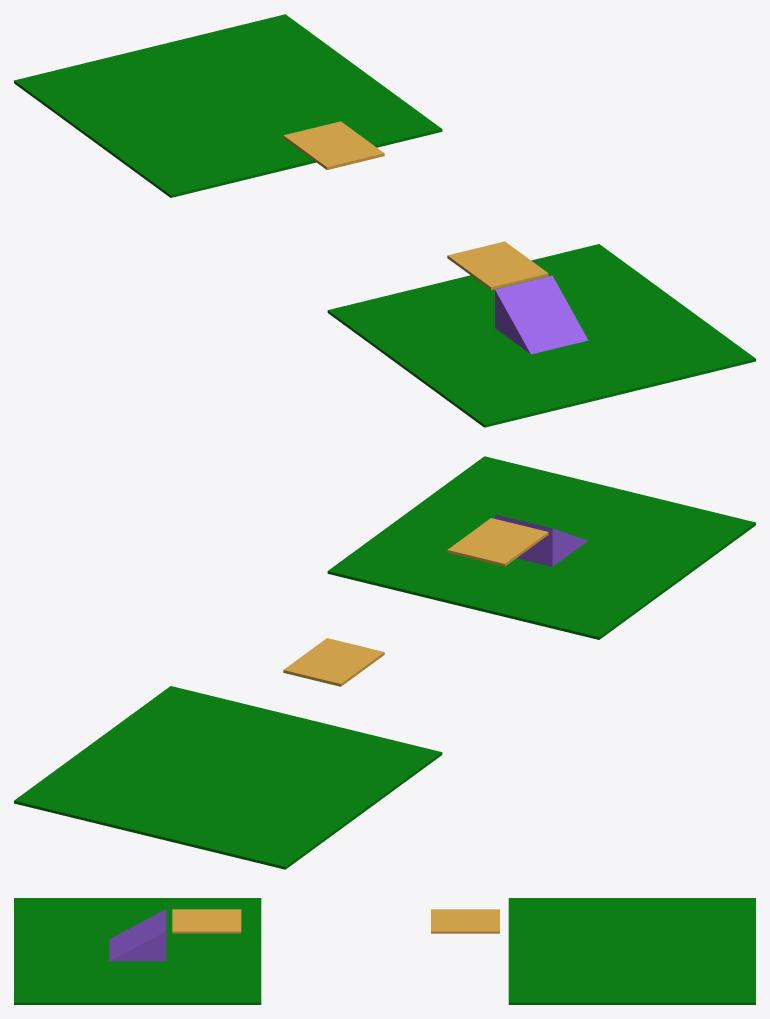
Rendered from goweti.glb.
The picture shows the model from 3 angles, top to bottom: view 1: azimuth 30°, elevation 25°; view 2: azimuth 150°, elevation 25°; view 3: azimuth 270°, elevation 25°; orthographic projection. The views are drawn at different scales.
Parts seen in each view (by area): view 1: BaseCube.001, BaseCube, Ramp, FloatingPlatform, FloatingPlatform.001; view 2: BaseCube.001, BaseCube, FloatingPlatform, FloatingPlatform.001, Ramp; view 3: BaseCube.001, BaseCube, Ramp, FloatingPlatform, FloatingPlatform.001.
Part boxes in pixels (x1,y1,x2,y2): BaseCube.001: (14,14,442,197); BaseCube: (327,244,755,427); Ramp: (495,275,588,354); FloatingPlatform: (447,241,548,289); FloatingPlatform.001: (283,121,384,169); BaseCube.001: (14,686,442,869); BaseCube: (327,456,755,639); FloatingPlatform: (447,518,548,566); FloatingPlatform.001: (283,638,384,686); Ramp: (495,514,587,566); BaseCube.001: (508,898,755,1004); BaseCube: (14,898,261,1004); Ramp: (109,909,166,961); FloatingPlatform: (172,909,241,933); FloatingPlatform.001: (431,909,499,933).
Size of what is drawn, in the model's own units: 50 by 7.3 by 150.
